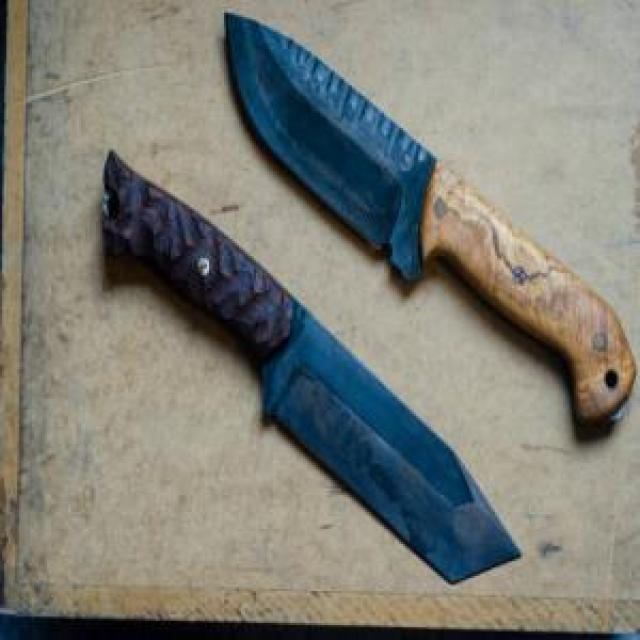knife: (96, 140, 525, 602), (218, 9, 636, 449)
